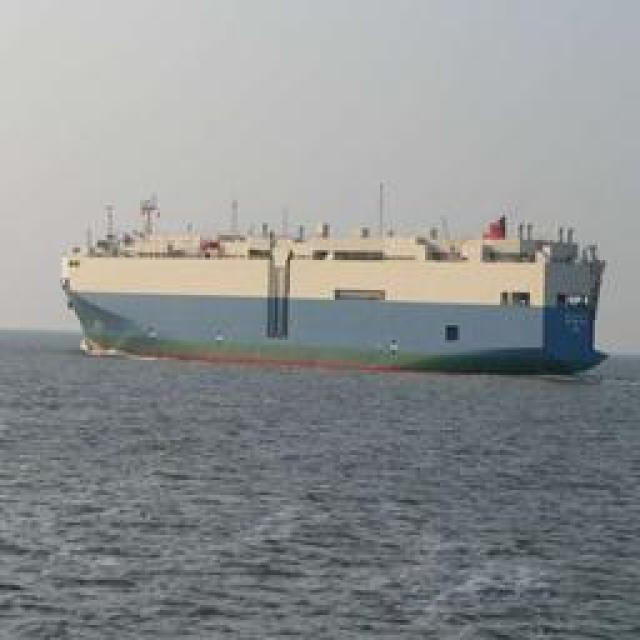CIV_Ship: (70, 222, 610, 378)
